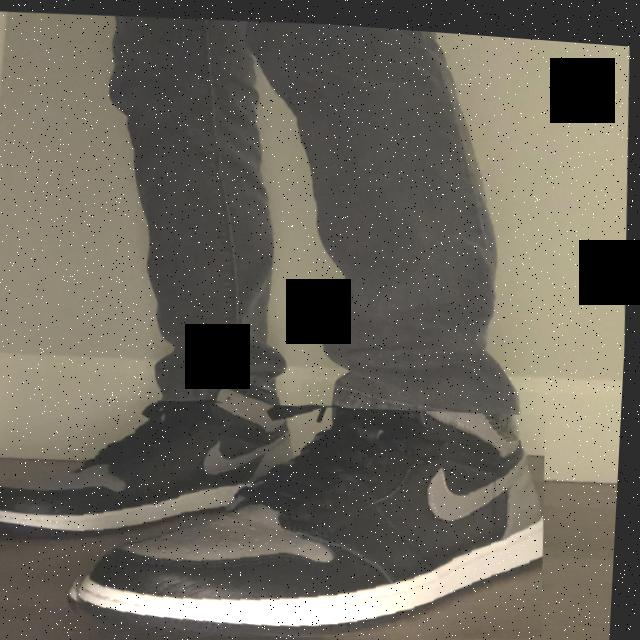shoe: (65, 379, 557, 640), (0, 356, 295, 549)
